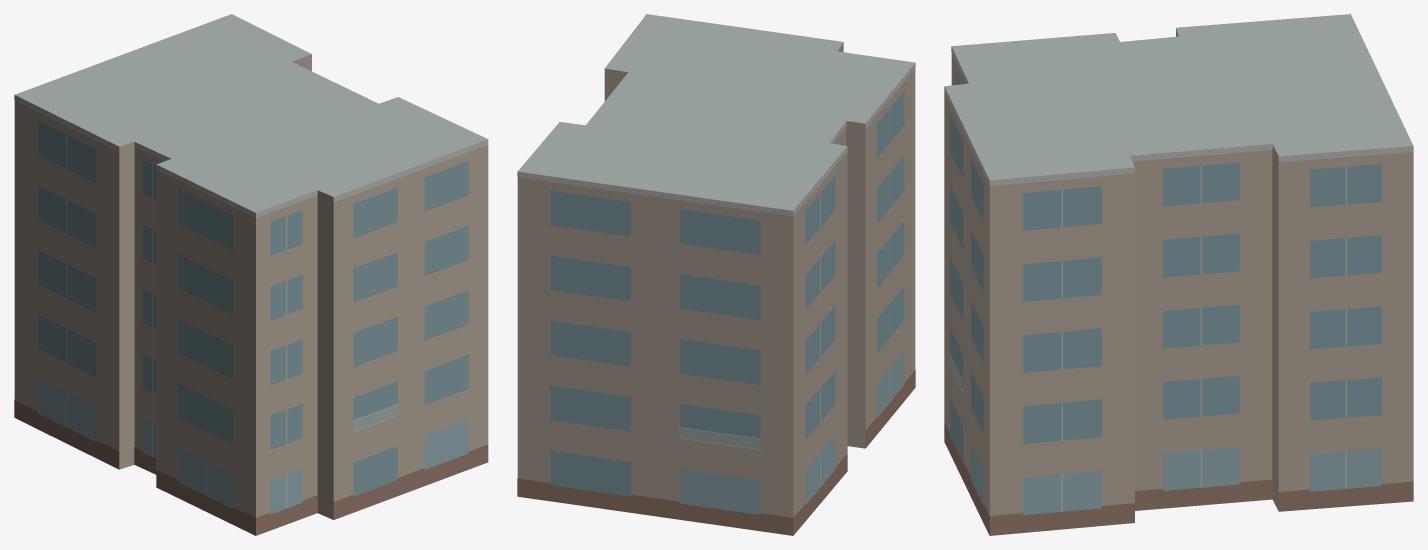
Rendered from survey-upis-32945556.glb.
3 renders of one model, left to right at view 1: azimuth 30°, elevation 25°; view 2: azimuth 150°, elevation 25°; view 3: azimuth 270°, elevation 25°, orthographic. The views are drawn at different scales.
Visible parts, largest first — view 1: survey-upis-32945556.tmp; view 2: survey-upis-32945556.tmp; view 3: survey-upis-32945556.tmp.
Boxes of the visible parts, <box> form: survey-upis-32945556.tmp: <box>14,14,488,535</box>; survey-upis-32945556.tmp: <box>517,14,915,535</box>; survey-upis-32945556.tmp: <box>944,14,1413,535</box>.
Size of the model in its own units: 14.36 by 14.3 by 17.11.
